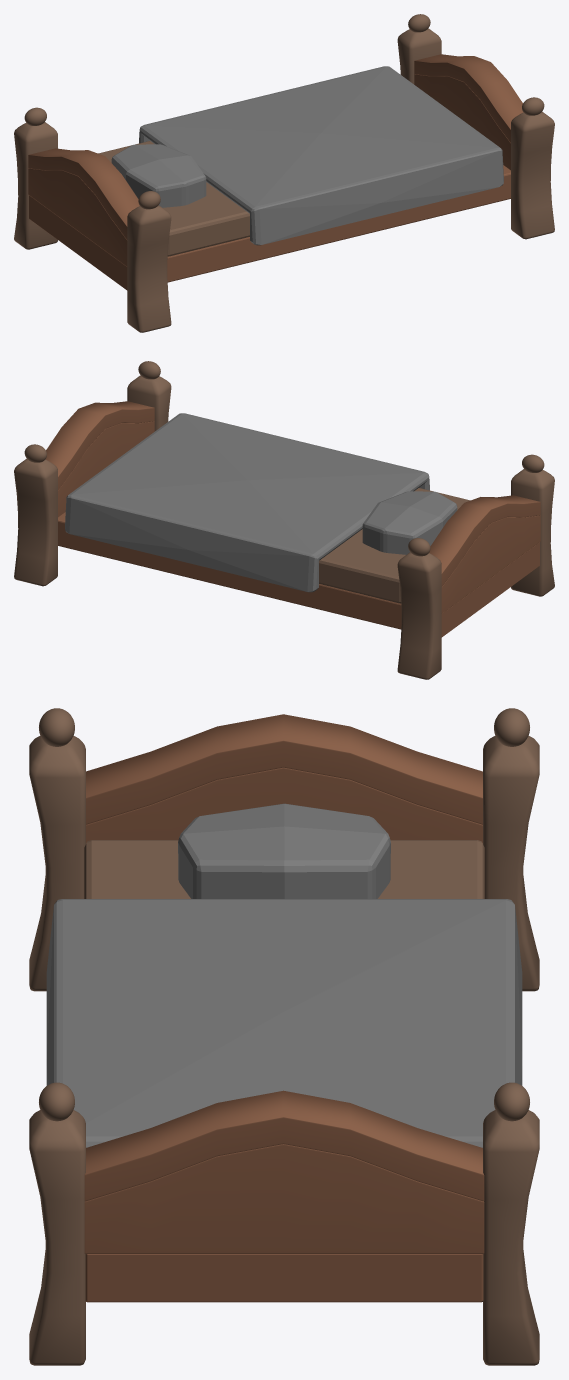
The model's file is bed.fbx.
The picture shows the model from 3 angles, top to bottom: view 1: azimuth 30°, elevation 25°; view 2: azimuth 150°, elevation 25°; view 3: azimuth 270°, elevation 25°; orthographic projection. The views are drawn at different scales.
Visible parts, largest first — view 1: Bed; view 2: Bed; view 3: Bed.
Boxes of the visible parts, x1,y1,x2,y2 form: Bed: (14,14,554,332); Bed: (14,361,554,679); Bed: (29,708,539,1365).
Size of the model in its own units: 190 by 58.18 by 101.
